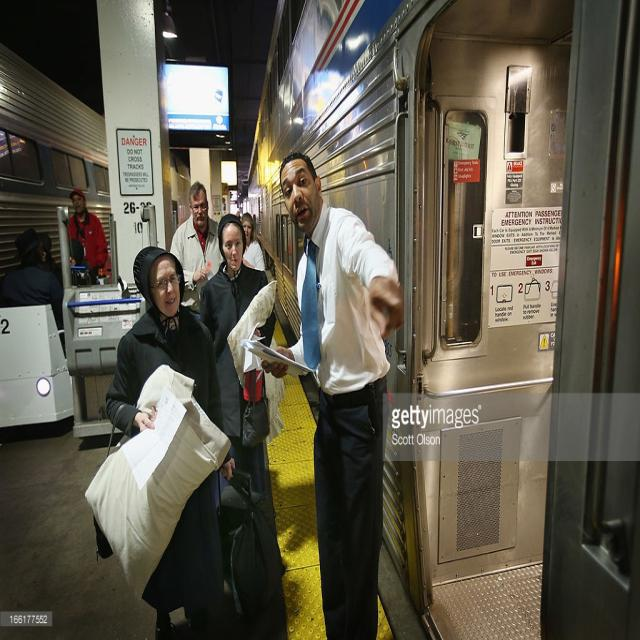body: (259, 149, 412, 639), (90, 243, 238, 639), (200, 214, 279, 518), (169, 180, 226, 322), (6, 225, 64, 318), (66, 186, 109, 278), (37, 230, 64, 301), (240, 211, 267, 273), (68, 237, 100, 285), (234, 208, 243, 221)
